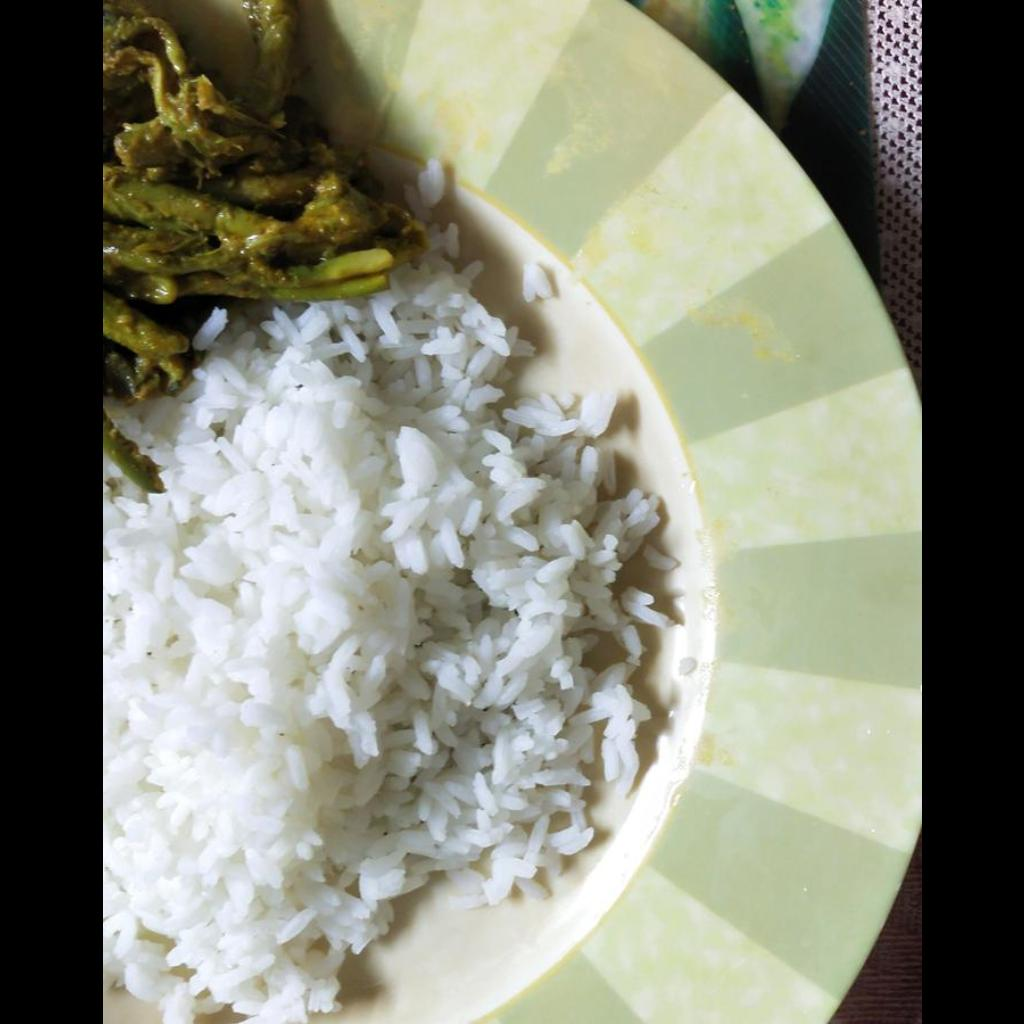rice: (102, 263, 688, 1022)
vegetable: (103, 0, 406, 393)
